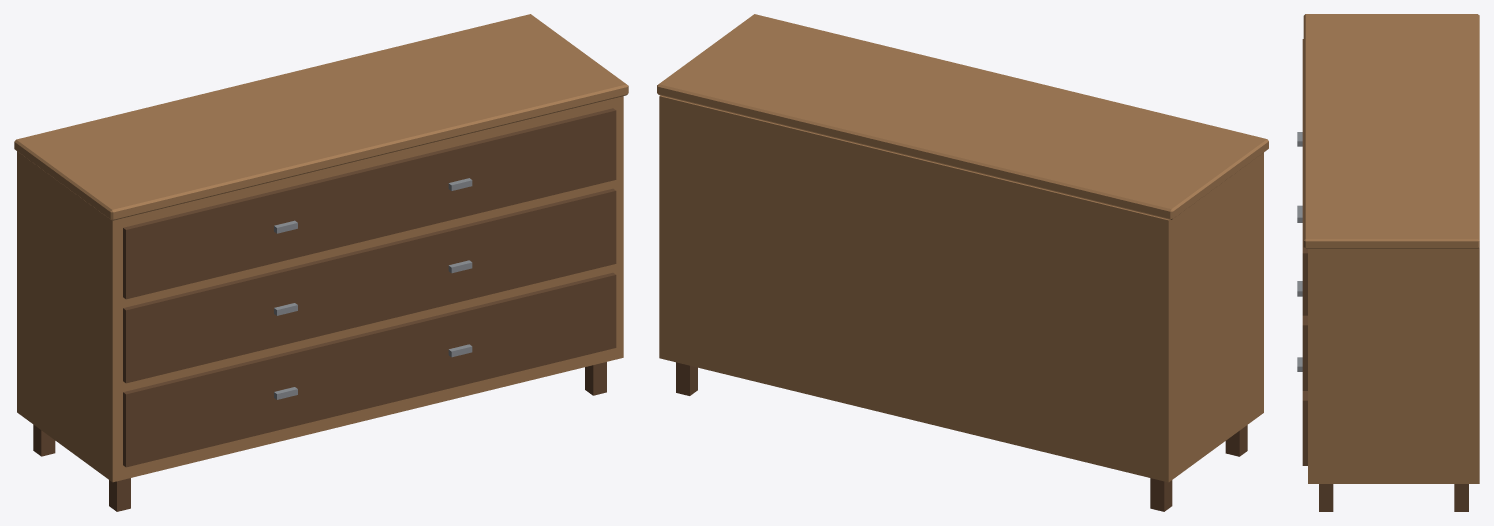
File: Comoda.fbx
3 renders of one model, left to right at view 1: azimuth 30°, elevation 25°; view 2: azimuth 150°, elevation 25°; view 3: azimuth 270°, elevation 25°, orthographic. The views are drawn at different scales.
Parts seen in each view (by area): view 1: Comoda; view 2: Comoda; view 3: Comoda.
Part boxes in pixels (x1,y1,x2,y2): Comoda: (14,14,628,511); Comoda: (657,14,1268,511); Comoda: (1297,14,1479,511).
Size of the model in its own units: 1.48 by 0.85 by 0.505.
